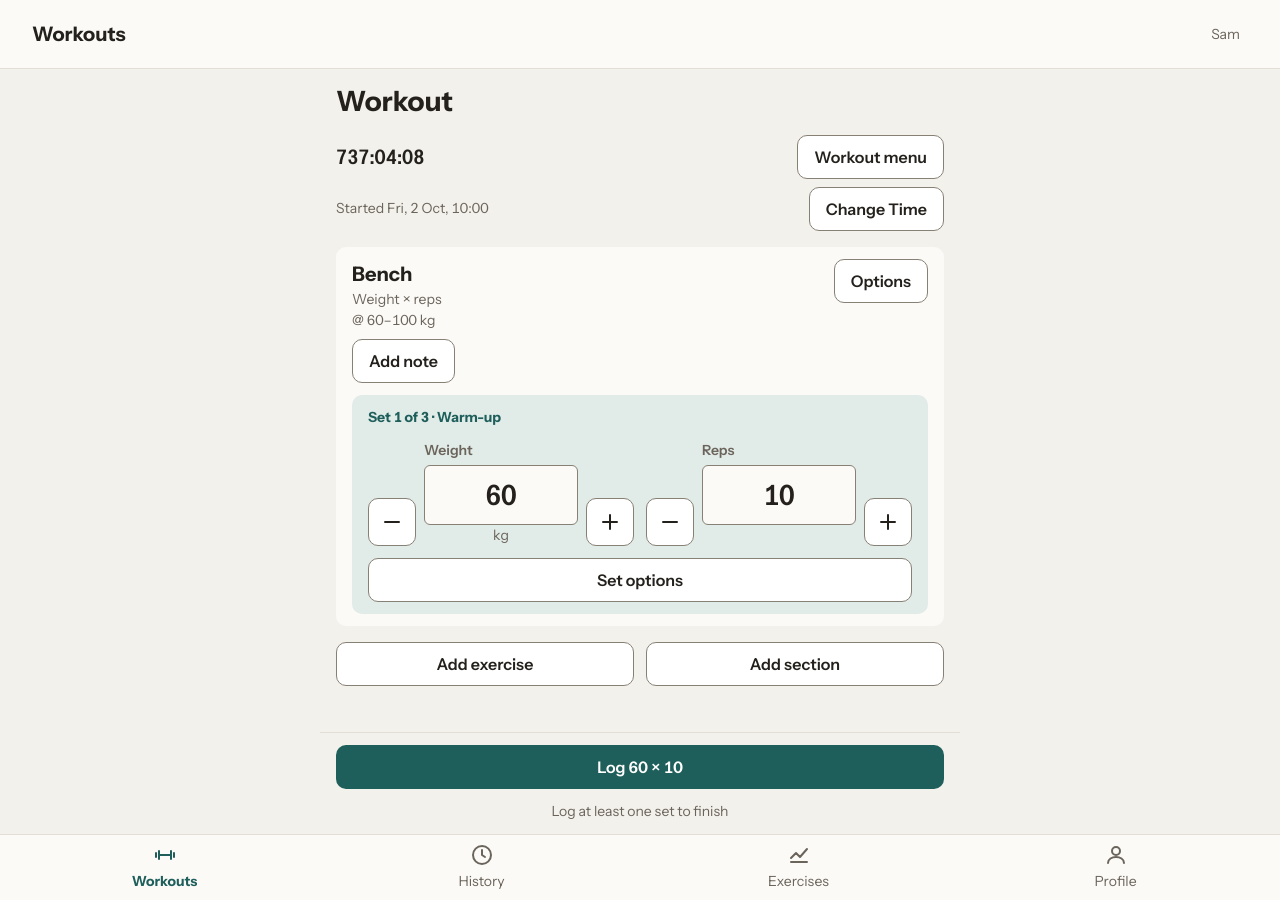
Scenario: 10.2 AC22 / AC23 — the draft arrives filled; one tap logs it › fills type, weight, unit and reps from the next row; there is no RPE field
Expected: the heading "Workout" is shown, x1=336 y1=84 x2=453 y2=118
Click the button "Set options".
click(640, 580)  # box x1=368 y1=558 x2=912 y2=602
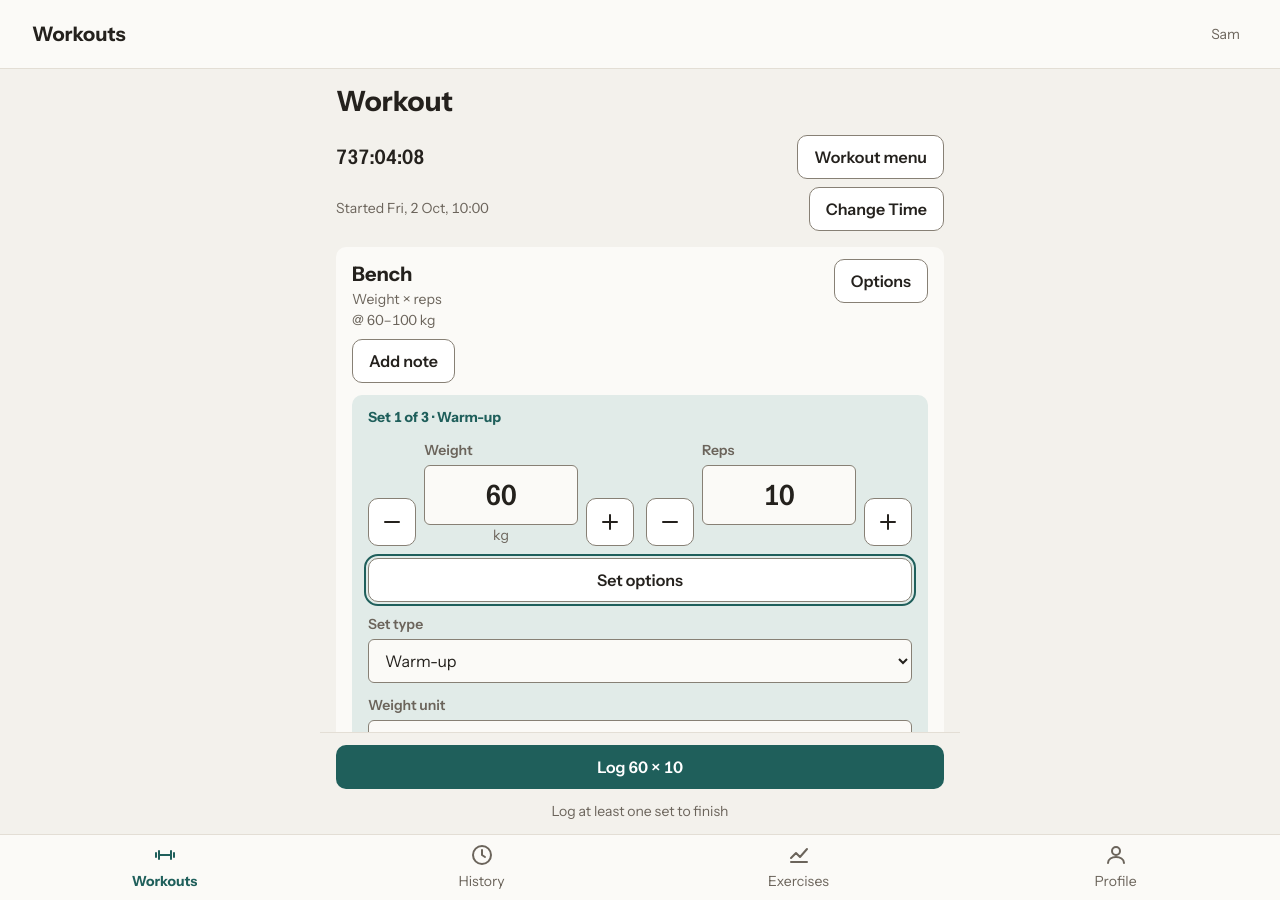
Expected: the field labelled "Weight" holds "60", x1=424 y1=465 x2=578 y2=525
Result: the dropdown labelled "Set type" shows "Warm-up" at x1=368 y1=639 x2=912 y2=683
